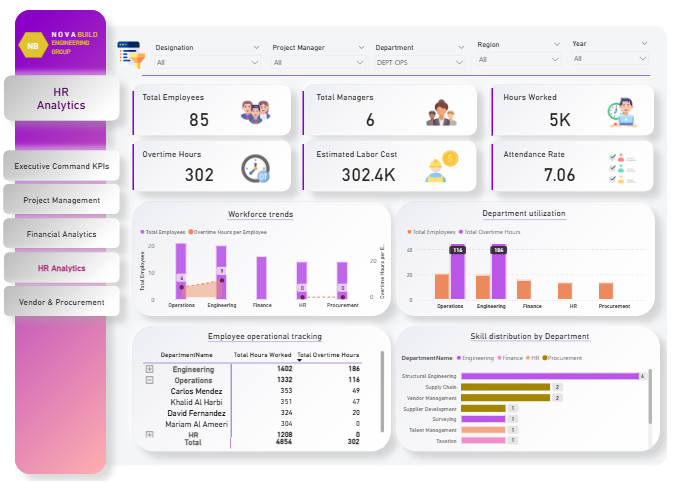

Layout of this report page (visuals, bound fields, positions):
{"tool":"powerbi","page":{"name":"HR Analytics","canvas":[1380,980],"ordinal":4},"visuals":[{"type":"shape","box":[63.9,68.1,61.9,51.5],"z":0,"group":"g1"},{"type":"cardVisual","fields":{"Data":["Measures Table.Total Employees"]},"box":[287.2,176.6,277.7,103.2],"z":0},{"type":"textbox","box":[74.2,80.4,40.2,35.1],"z":1000,"group":"g1"},{"type":"cardVisual","fields":{"Data":["Measures Table.Total Hours Worked"]},"box":[1005.3,169.1,283,110.6],"z":1000},{"type":"textbox","box":[125.8,58.8,121.6,60.8],"z":2000,"group":"g1"},{"type":"cardVisual","fields":{"Data":["Measures Table.Total Overtime Hours"]},"box":[287.2,283,277.7,107.4],"z":2000},{"type":"cardVisual","fields":{"Data":["Measures Table.Attendance Rate"]},"box":[1005.3,283,283,107.4],"z":3000},{"type":"cardVisual","fields":{"Data":["Measures Table.Labor Cost Estimate"]},"box":[628.7,283,274.5,107.4],"z":4000},{"type":"clusteredColumnChart","fields":{"Category":["DimDepartment.DepartmentName"],"Y":["Measures Table.Total Employees","Measures Table.Total Overtime Hours"]},"box":[835.1,447.9,491.5,181.9],"z":5000},{"type":"lineStackedColumnComboChart","fields":{"Category":["DimDepartment.DepartmentName"],"Y":["Measures Table.Total Employees"],"Y2":["Measures Table.Overtime Hours per Employee"]},"box":[301.1,447.9,501.1,181.9],"z":6000},{"type":"barChart","fields":{"Category":["DimEmployee.SkillCategory"],"Y":["Measures Table.Total Employees"],"Series":["DimDepartment.DepartmentName"]},"box":[825.5,700,511.7,206.4],"z":7000},{"type":"pivotTable","fields":{"Rows":["DimDepartment.DepartmentName","DimEmployee.EmployeeName"],"Values":["Measures Table.Total Hours Worked","Measures Table.Total Overtime Hours"]},"box":[308.5,700,493.6,206.4],"z":8000},{"type":"cardVisual","fields":{"Data":["Measures Table.Total Managers"]},"box":[628.7,176.6,281.9,103.2],"z":9000},{"type":"pageNavigator","box":[35.9,305.4,231.5,331.5],"z":10000},{"type":"textbox","box":[34.4,168.9,232.8,82],"z":11000},{"type":"textbox","box":[308.5,181.9,198.9,35.1],"z":12000},{"type":"textbox","box":[656.4,181.9,198.9,35.1],"z":13000},{"type":"textbox","box":[1030.9,181.9,198.9,35.1],"z":14000},{"type":"textbox","box":[308.5,295.7,198.9,35.1],"z":15000},{"type":"textbox","box":[656.4,295.7,198.9,35.1],"z":16000},{"type":"textbox","box":[1030.9,295.7,198.9,35.1],"z":17000},{"type":"shape","box":[481.7,417.4,133,50.5],"z":18000},{"type":"textbox","box":[299,415,499,33],"z":19000},{"type":"textbox","box":[825.5,414.9,500,33],"z":20000},{"type":"shape","box":[993.6,417.4,167,50.5],"z":21000},{"type":"textbox","box":[837.2,659.6,500,33],"z":22000},{"type":"shape","box":[969.7,659.6,239.4,51.4],"z":23000},{"type":"textbox","box":[308.3,659.6,500,33],"z":24000},{"type":"shape","box":[445,661.5,229.4,50.5],"z":25000},{"type":"image","box":[256.8,83,68.2,64.8],"z":26000},{"type":"group","id":"g1","title":"Group 3","box":[63.9,58.8,183.5,60.8],"z":27000},{"type":"shape","box":[311.7,140,1016.7,30],"z":28000},{"type":"slicer","fields":{"Values":["DimRegion.Region"]},"box":[969.3,80.7,190.9,60.2],"z":29000},{"type":"slicer","fields":{"Values":["DimDate.Year"]},"box":[1160.2,78.4,176.1,61.4],"z":30000},{"type":"slicer","fields":{"Values":["DimProjects.DepartmentID"]},"box":[765.9,85.2,203.4,60.2],"z":31000},{"type":"slicer","fields":{"Values":["DimProjects.ProjectManagerName"]},"box":[559.1,85.2,210.2,60.2],"z":32000},{"type":"slicer","fields":{"Values":["DimEmployee.Designation"]},"box":[325,85.2,234.1,61.4],"z":33000},{"type":"image","box":[496.6,193.2,86.4,70.5],"z":34000},{"type":"image","box":[868.2,193.2,86.4,70.5],"z":35000},{"type":"image","box":[1229.5,193.2,86.4,70.5],"z":36000},{"type":"image","box":[496.6,305.7,86.4,70.5],"z":37000},{"type":"image","box":[868.2,295.5,86.4,80.7],"z":38000},{"type":"image","box":[1229.5,305.7,86.4,70.5],"z":39000}]}

Visuals, with their boxes on the page's 1380x980 design canvas (x1, y1, x2, y2). These are canvas units, not pixel positions in the 674x484 screenshot, which may show the page scaled, cropped or inside an application window:
shape: {"x1": 64, "y1": 68, "x2": 126, "y2": 120}
cardVisual - Measures Table.Total Employees: {"x1": 287, "y1": 177, "x2": 565, "y2": 280}
textbox: {"x1": 74, "y1": 80, "x2": 114, "y2": 116}
cardVisual - Measures Table.Total Hours Worked: {"x1": 1005, "y1": 169, "x2": 1288, "y2": 280}
textbox: {"x1": 126, "y1": 59, "x2": 247, "y2": 120}
cardVisual - Measures Table.Total Overtime Hours: {"x1": 287, "y1": 283, "x2": 565, "y2": 390}
cardVisual - Measures Table.Attendance Rate: {"x1": 1005, "y1": 283, "x2": 1288, "y2": 390}
cardVisual - Measures Table.Labor Cost Estimate: {"x1": 629, "y1": 283, "x2": 903, "y2": 390}
clusteredColumnChart - DimDepartment.DepartmentName x Measures Table.Total Employees: {"x1": 835, "y1": 448, "x2": 1327, "y2": 630}
lineStackedColumnComboChart - DimDepartment.DepartmentName x Measures Table.Total Employees: {"x1": 301, "y1": 448, "x2": 802, "y2": 630}
barChart - DimEmployee.SkillCategory x Measures Table.Total Employees: {"x1": 826, "y1": 700, "x2": 1337, "y2": 906}
pivotTable - DimDepartment.DepartmentName x DimEmployee.EmployeeName: {"x1": 308, "y1": 700, "x2": 802, "y2": 906}
cardVisual - Measures Table.Total Managers: {"x1": 629, "y1": 177, "x2": 911, "y2": 280}
pageNavigator: {"x1": 36, "y1": 305, "x2": 267, "y2": 637}
textbox: {"x1": 34, "y1": 169, "x2": 267, "y2": 251}
textbox: {"x1": 308, "y1": 182, "x2": 507, "y2": 217}
textbox: {"x1": 656, "y1": 182, "x2": 855, "y2": 217}
textbox: {"x1": 1031, "y1": 182, "x2": 1230, "y2": 217}
textbox: {"x1": 308, "y1": 296, "x2": 507, "y2": 331}
textbox: {"x1": 656, "y1": 296, "x2": 855, "y2": 331}
textbox: {"x1": 1031, "y1": 296, "x2": 1230, "y2": 331}
shape: {"x1": 482, "y1": 417, "x2": 615, "y2": 468}
textbox: {"x1": 299, "y1": 415, "x2": 798, "y2": 448}
textbox: {"x1": 826, "y1": 415, "x2": 1326, "y2": 448}
shape: {"x1": 994, "y1": 417, "x2": 1161, "y2": 468}
textbox: {"x1": 837, "y1": 660, "x2": 1337, "y2": 693}
shape: {"x1": 970, "y1": 660, "x2": 1209, "y2": 711}
textbox: {"x1": 308, "y1": 660, "x2": 808, "y2": 693}
shape: {"x1": 445, "y1": 662, "x2": 674, "y2": 712}
image: {"x1": 257, "y1": 83, "x2": 325, "y2": 148}
"Group 3" group: {"x1": 64, "y1": 59, "x2": 247, "y2": 120}
shape: {"x1": 312, "y1": 140, "x2": 1328, "y2": 170}
slicer - DimRegion.Region: {"x1": 969, "y1": 81, "x2": 1160, "y2": 141}
slicer - DimDate.Year: {"x1": 1160, "y1": 78, "x2": 1336, "y2": 140}
slicer - DimProjects.DepartmentID: {"x1": 766, "y1": 85, "x2": 969, "y2": 145}
slicer - DimProjects.ProjectManagerName: {"x1": 559, "y1": 85, "x2": 769, "y2": 145}
slicer - DimEmployee.Designation: {"x1": 325, "y1": 85, "x2": 559, "y2": 147}
image: {"x1": 497, "y1": 193, "x2": 583, "y2": 264}
image: {"x1": 868, "y1": 193, "x2": 955, "y2": 264}
image: {"x1": 1230, "y1": 193, "x2": 1316, "y2": 264}
image: {"x1": 497, "y1": 306, "x2": 583, "y2": 376}
image: {"x1": 868, "y1": 296, "x2": 955, "y2": 376}
image: {"x1": 1230, "y1": 306, "x2": 1316, "y2": 376}
